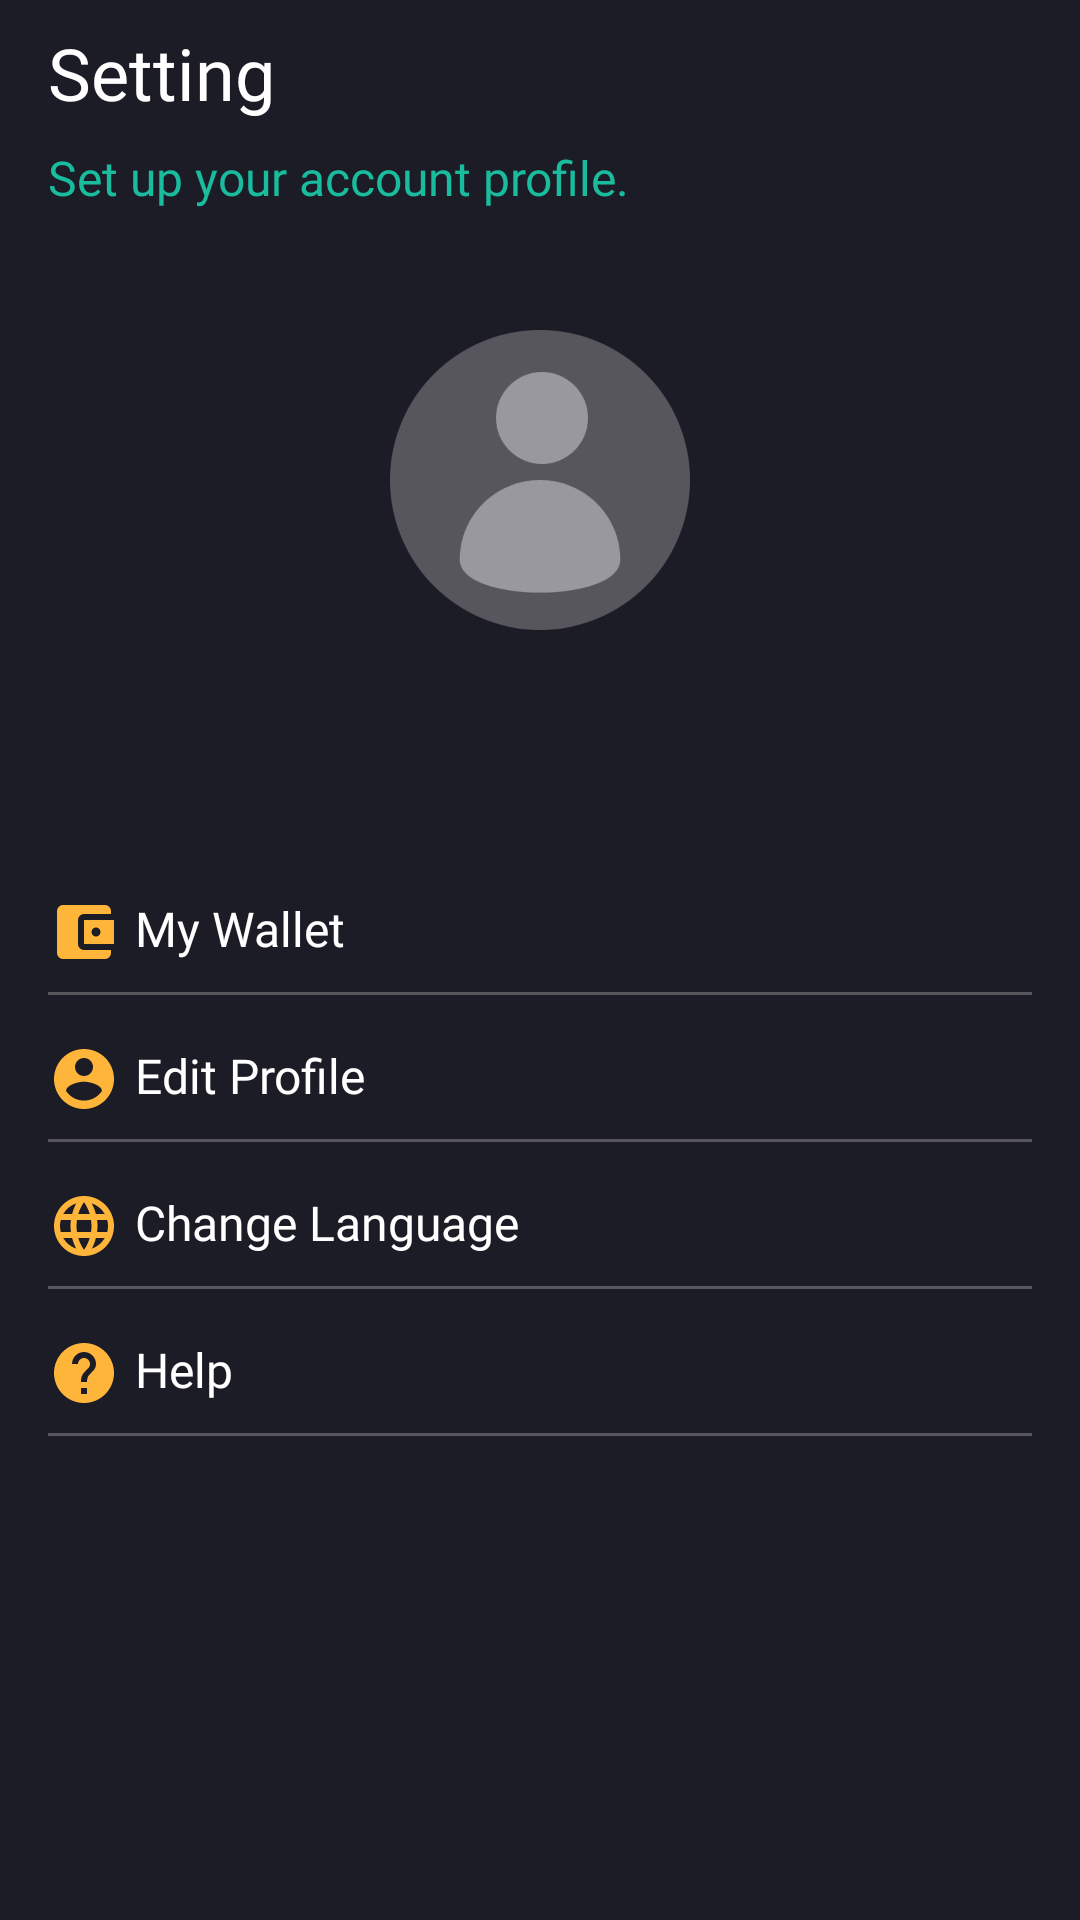

Where icons sit on this 1080 x 1920 app screen, as (x1, y1, x2, y2):
user prof: (390, 330, 690, 630)
